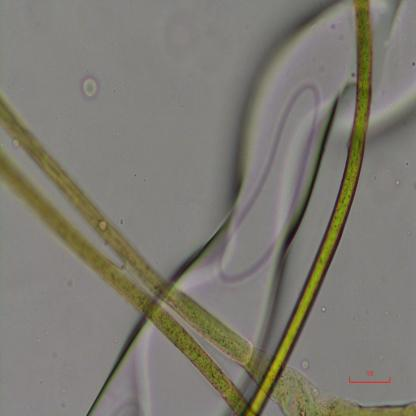Air bubble: (194, 5, 353, 303)
Background material: (81, 318, 150, 414), (363, 74, 416, 145), (375, 1, 416, 77), (80, 76, 99, 100), (297, 356, 311, 373), (320, 304, 328, 312), (391, 179, 401, 185)
Microfibre: (0, 94, 416, 414), (0, 146, 252, 413), (240, 0, 374, 413)
